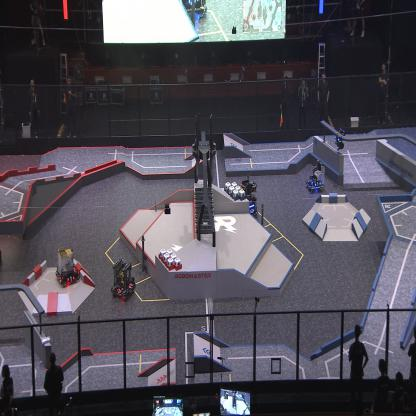car: (110, 256, 136, 302), (56, 247, 80, 287), (238, 178, 258, 221), (306, 160, 326, 192)
